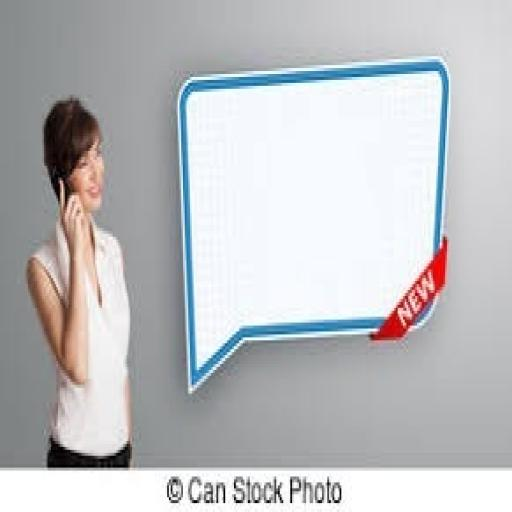calling: (23, 92, 134, 468)
